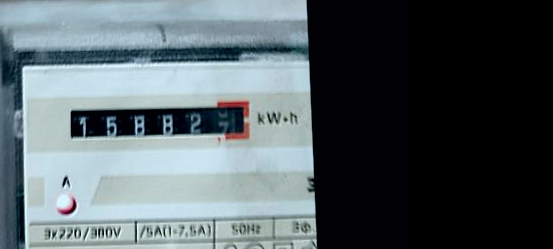1: (76, 114, 90, 136)
2: (187, 111, 204, 136)
5: (104, 113, 119, 138)
7: (217, 117, 230, 134)
8: (160, 112, 175, 137), (132, 113, 146, 137)
screen: (60, 93, 259, 156)
